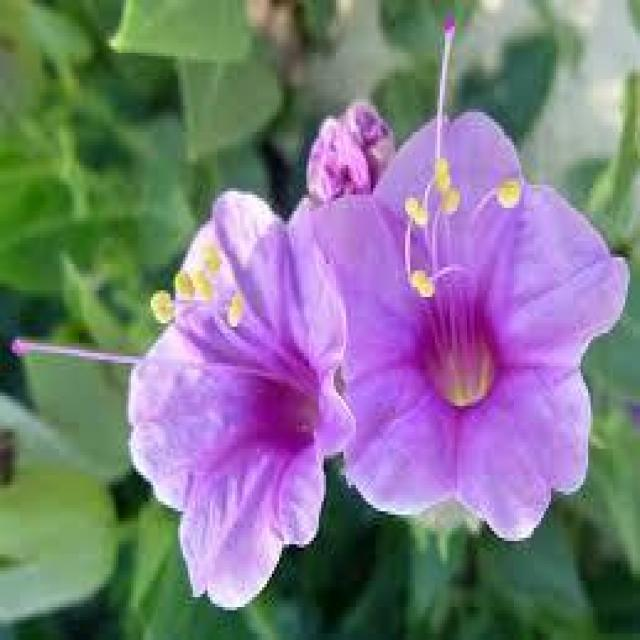organic waste: (293, 92, 624, 554), (119, 203, 363, 579)
